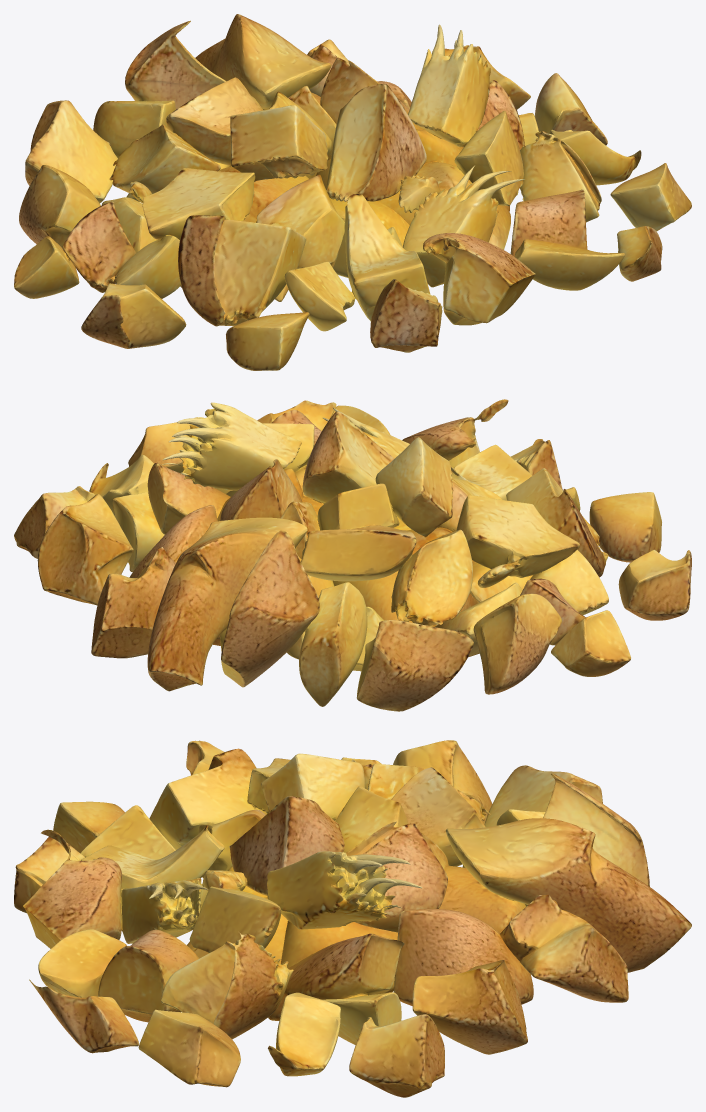
File: lod_basic_pbr.fbx
3 renders of one model, top to bottom at view 1: azimuth 30°, elevation 25°; view 2: azimuth 150°, elevation 25°; view 3: azimuth 270°, elevation 25°, orthographic. The views are drawn at different scales.
Visible parts, largest first — view 1: model_LOD0; view 2: model_LOD0; view 3: model_LOD0.
Part boxes in pixels (x1,y1,x2,y2): model_LOD0: (14,14,691,370); model_LOD0: (14,399,691,711); model_LOD0: (14,740,691,1097).
Size of what is drawn, in the model's own units: 190 by 51.36 by 177.
Materials: 1 (1 with a texture image).
